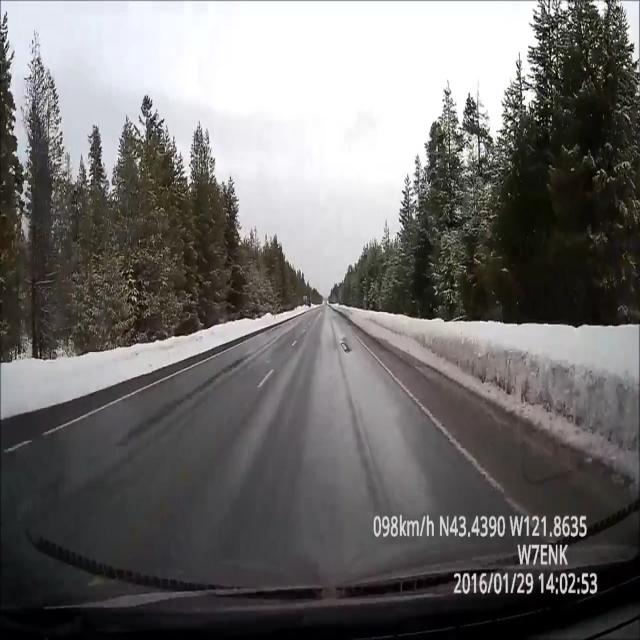Pothole: (336, 328, 354, 357)
